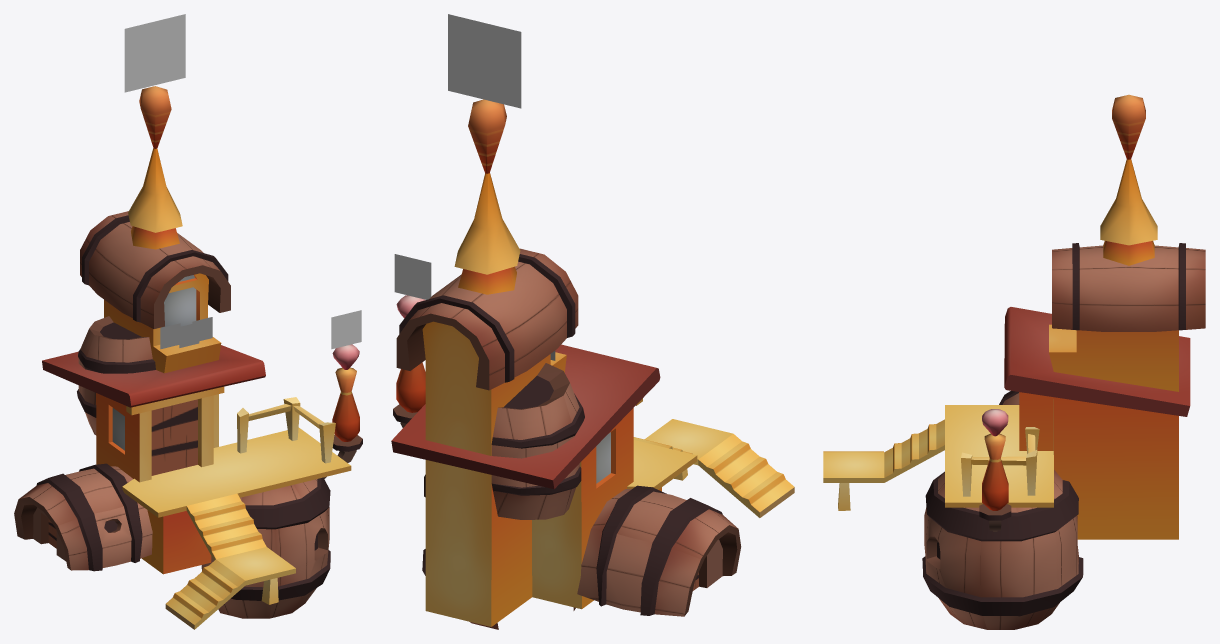
File: saa7zcarrot2.dae
3 renders of one model, left to right at view 1: azimuth 30°, elevation 25°; view 2: azimuth 150°, elevation 25°; view 3: azimuth 270°, elevation 25°, orthographic. The views are drawn at different scales.
Visible parts, largest first — view 1: CarrotTopHouse, Object, Object002; view 2: CarrotTopHouse, Object, Object002; view 3: CarrotTopHouse.
Boxes of the visible parts, <box> form: CarrotTopHouse: <box>14,86,362,629</box>; Object: <box>124,14,185,92</box>; Object002: <box>331,310,361,349</box>; CarrotTopHouse: <box>391,99,794,629</box>; Object: <box>448,14,521,108</box>; Object002: <box>394,254,431,299</box>; CarrotTopHouse: <box>823,94,1205,629</box>.
Size of the model in its own units: 147 by 254 by 157.
